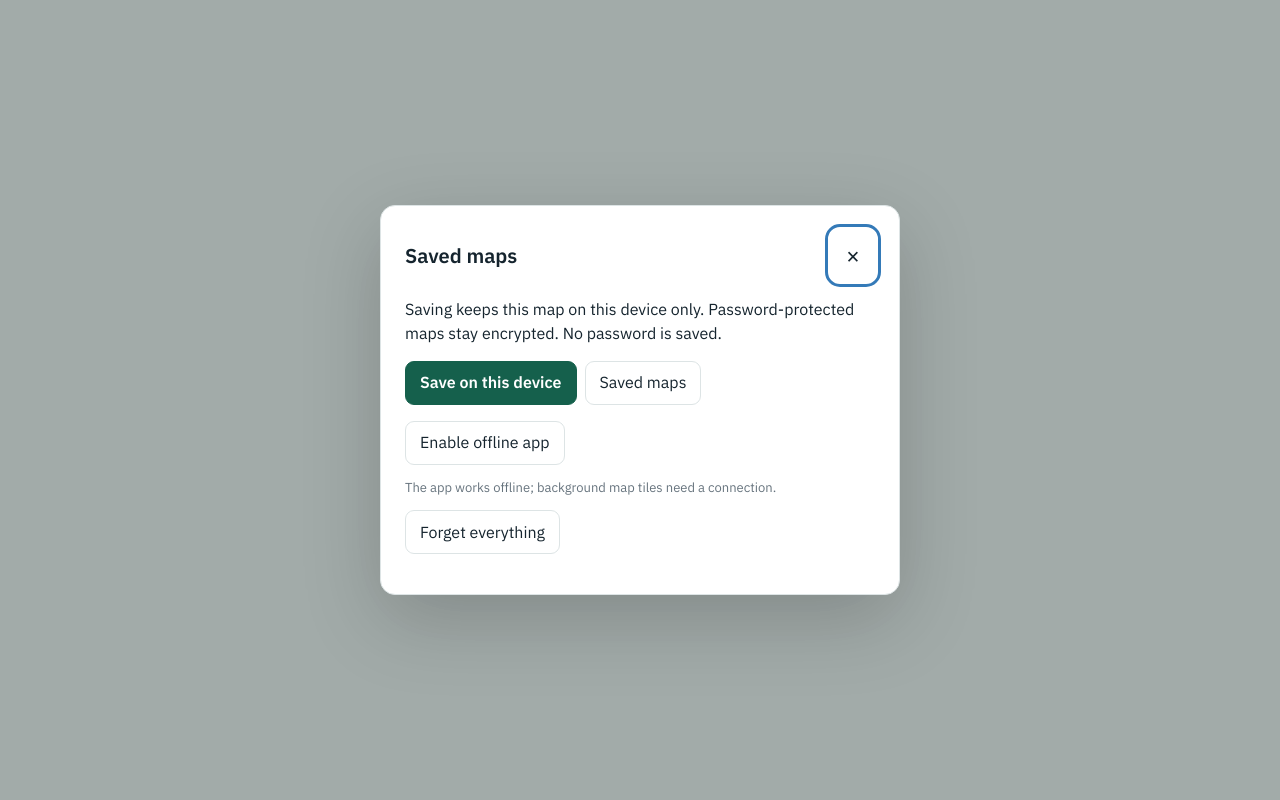
Test: keeps a broken row deletable while the usable map remains available
The width and height of the screenshot is (1280, 800).
Later steps or results of the test are not shown.
Click the button "Saved maps" at (643, 383), box [584, 361, 701, 405]
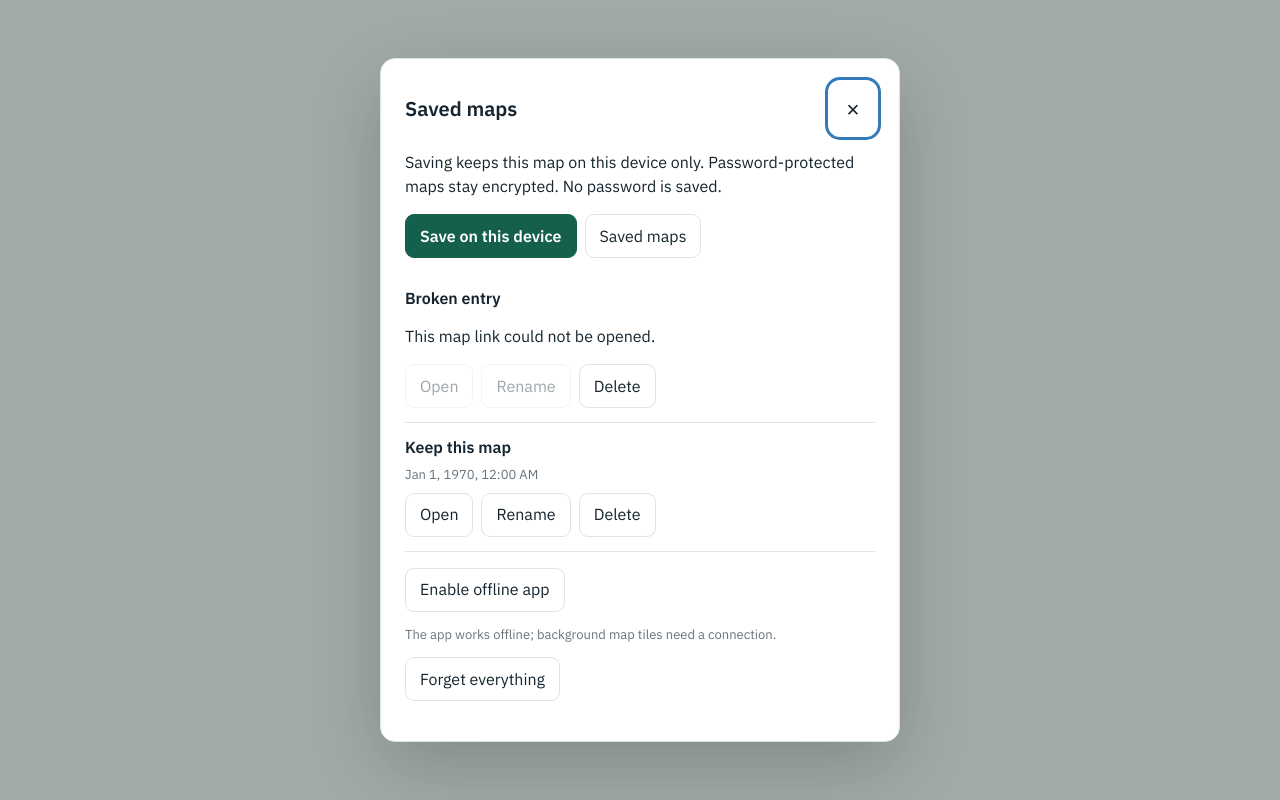
Expected: the button "Open" below "Broken entry" is disabled, [405, 364, 474, 408]
Expected: the button "Rename" below "Broken entry" is disabled, [482, 364, 571, 408]
Expected: the button "Open" below "Keep this map" is enabled, [405, 493, 474, 537]
